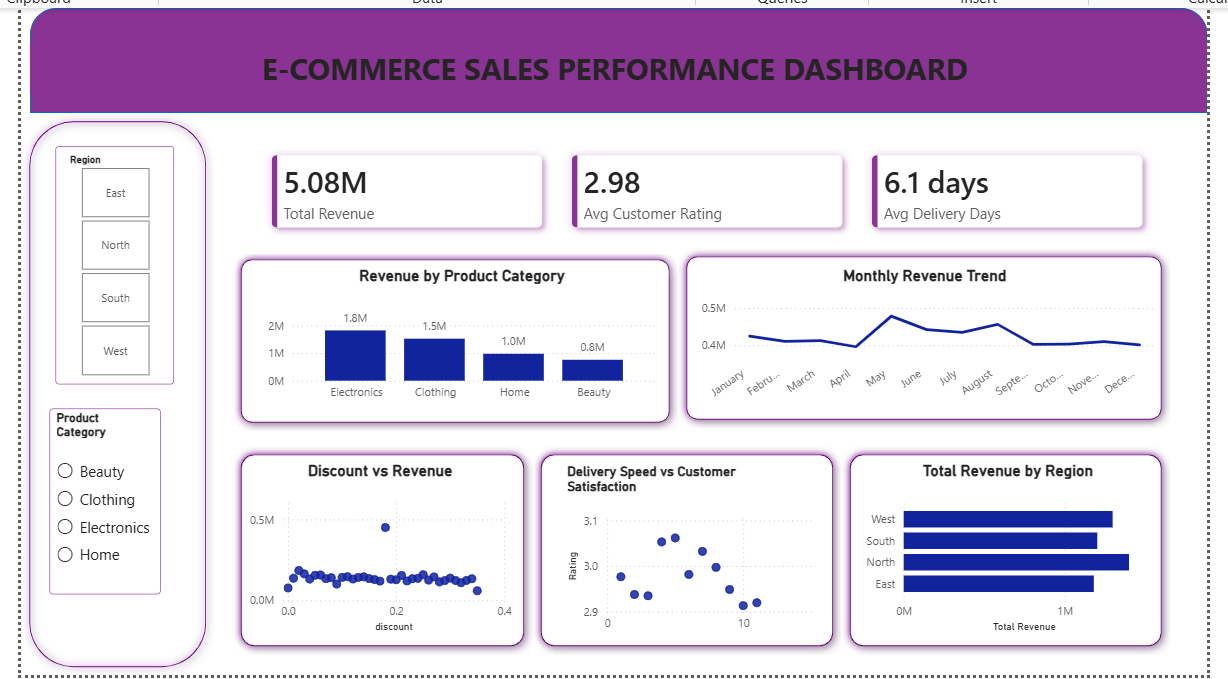

The page's visual inventory and layout, read from the dashboard file:
{"tool":"powerbi","page":{"name":"Page 2","canvas":[1280,720],"ordinal":0},"visuals":[{"type":"shape","box":[9.7,0,1271.1,113.3],"z":0},{"type":"textbox","box":[9.7,37.2,1271.1,55.1],"z":1},{"type":"shape","box":[0,113.3,208.9,607.2],"z":3},{"type":"slicer","fields":{"Values":["customer.region"]},"box":[37.2,149,127.9,257.5],"z":4},{"type":"listSlicer","title":"Product Category","fields":{"Values":["customer.product_category"]},"box":[30.8,432.3,119.8,200.8],"z":5},{"type":"shape","box":[228.3,262.3,480.9,194.3],"z":7},{"type":"cardVisual","fields":{"Data":["customer.Total Revenue","customer.Avg Customer Rating","customer.Avg Delivery Days"]},"box":[241.3,129.5,999.1,136],"z":8},{"type":"shape","box":[709.2,259.1,531.1,194.3],"z":9},{"type":"shape","box":[228.3,472.8,323.8,225.1],"z":10},{"type":"shape","box":[552.2,472.8,333.6,225.1],"z":11},{"type":"shape","box":[885.7,472.8,354.6,225.1],"z":12},{"type":"clusteredColumnChart","title":"Revenue by Product Category","fields":{"Category":["customer.product_category"],"Y":["customer.Total Revenue"]},"box":[260.7,278.5,430.7,153.8],"z":13},{"type":"lineChart","title":"Monthly Revenue Trend","fields":{"Y":["customer.Total Revenue"],"Category":["customer.Month_Name"]},"box":[723.8,278.5,503.6,153.8],"z":15},{"type":"scatterChart","title":"Discount vs Revenue","fields":{"Y":["customer.Total Revenue"],"X":["customer.discount"]},"box":[241.3,489,293.1,189.4],"z":16},{"type":"scatterChart","title":"Delivery Speed vs Customer Satisfaction","fields":{"X":["customer.delivery_days"],"Y":["customer.Avg Customer Rating"]},"box":[584.5,492.2,280.1,189.4],"z":17},{"type":"clusteredBarChart","title":"Total Revenue by Region","fields":{"Y":["customer.Total Revenue"],"Category":["customer.region"]},"box":[903.5,489,323.8,189.4],"z":18}]}

Visuals, with their boxes in screenshot pixels (x1, y1, x2, y2):
shape: 22, 0, 1227, 109
textbox: 22, 36, 1227, 89
shape: 13, 109, 214, 678
slicer - customer.region: 49, 143, 172, 391
"Product Category" listSlicer: 42, 416, 158, 609
shape: 233, 253, 696, 440
cardVisual - customer.Total Revenue x customer.Avg Customer Rating: 245, 125, 1207, 256
shape: 696, 249, 1207, 436
shape: 233, 455, 544, 672
shape: 544, 455, 866, 672
shape: 865, 455, 1207, 672
"Revenue by Product Category" clusteredColumnChart: 264, 268, 678, 416
"Monthly Revenue Trend" lineChart: 710, 268, 1194, 416
"Discount vs Revenue" scatterChart: 245, 471, 527, 653
"Delivery Speed vs Customer Satisfaction" scatterChart: 575, 474, 845, 656
"Total Revenue by Region" clusteredBarChart: 883, 471, 1194, 653
